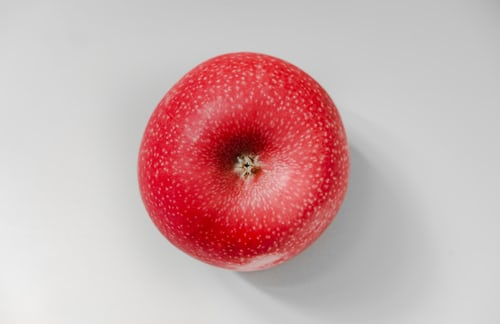apple: (136, 53, 350, 275)
